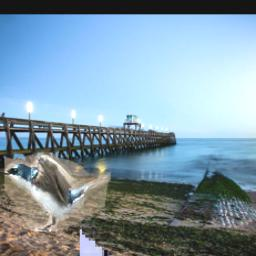Crow: (80, 19, 180, 256)
Swallow: (4, 152, 111, 231)
